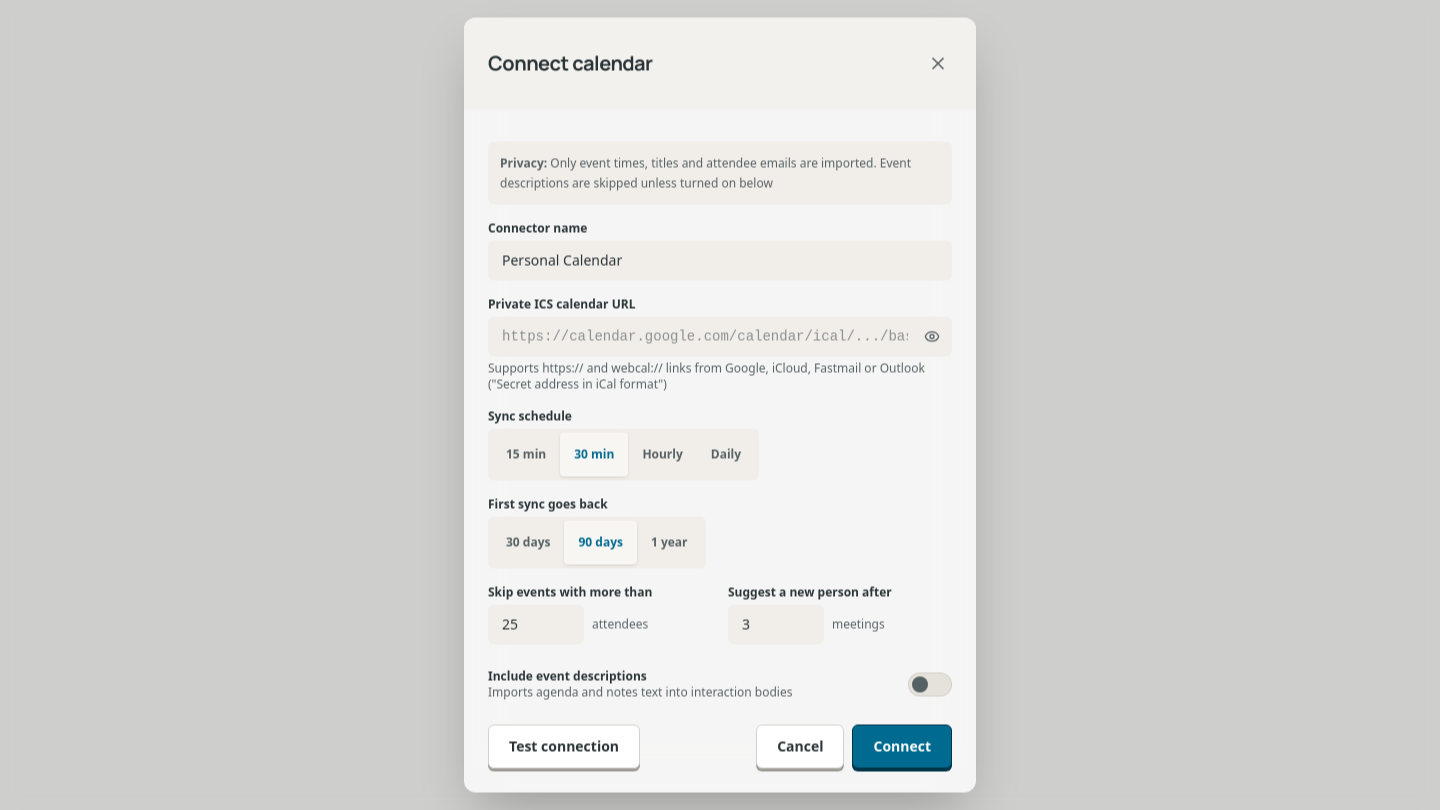
Frontend Connectors Components › CalendarFormModal › displays error message if submitting fails
In the password field labelled "Private ICS calendar URL": (720,336) [488,316,952,356], type "https://calendar.google.com/feed.ics"
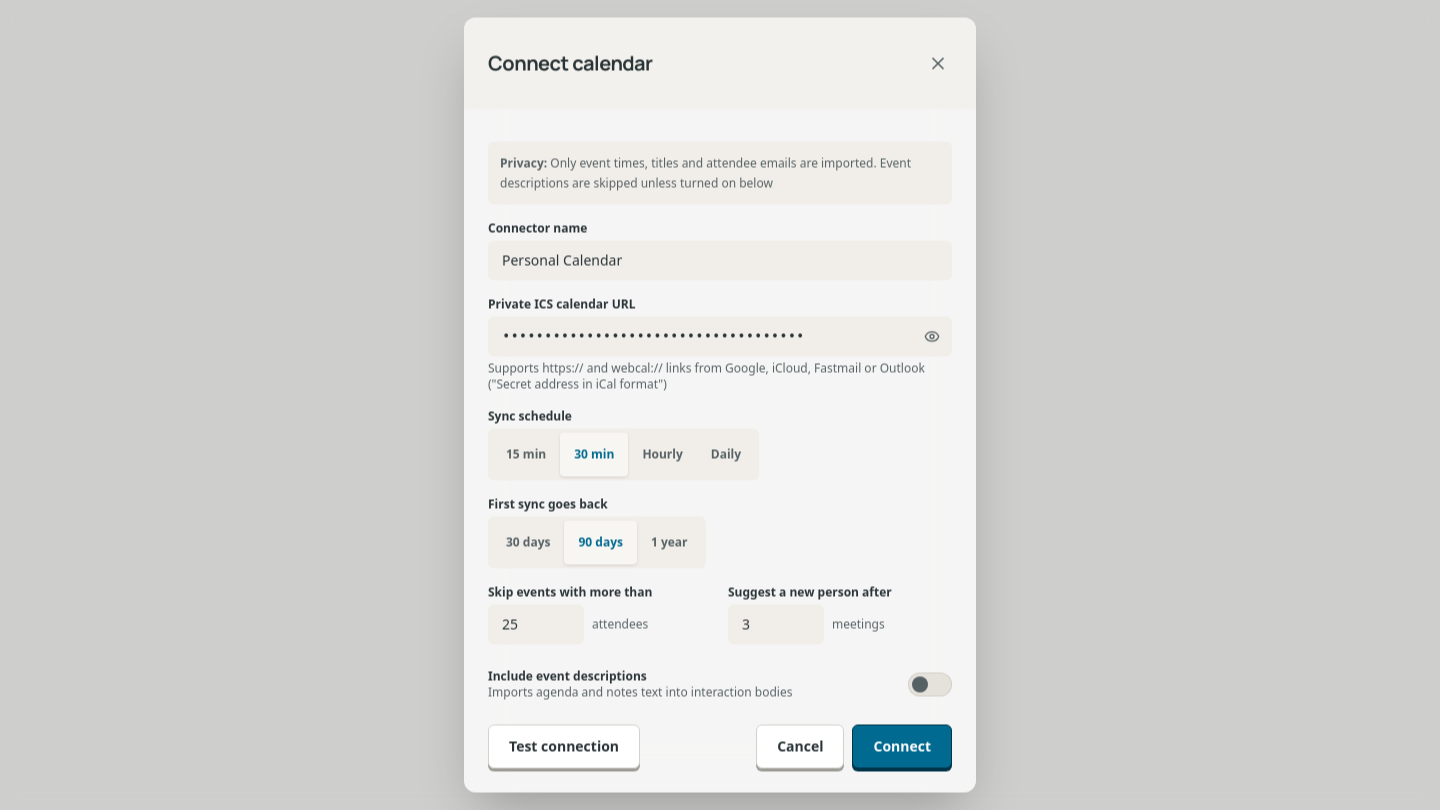
Click the button "Connect": (902,746) [852,724,952,768]
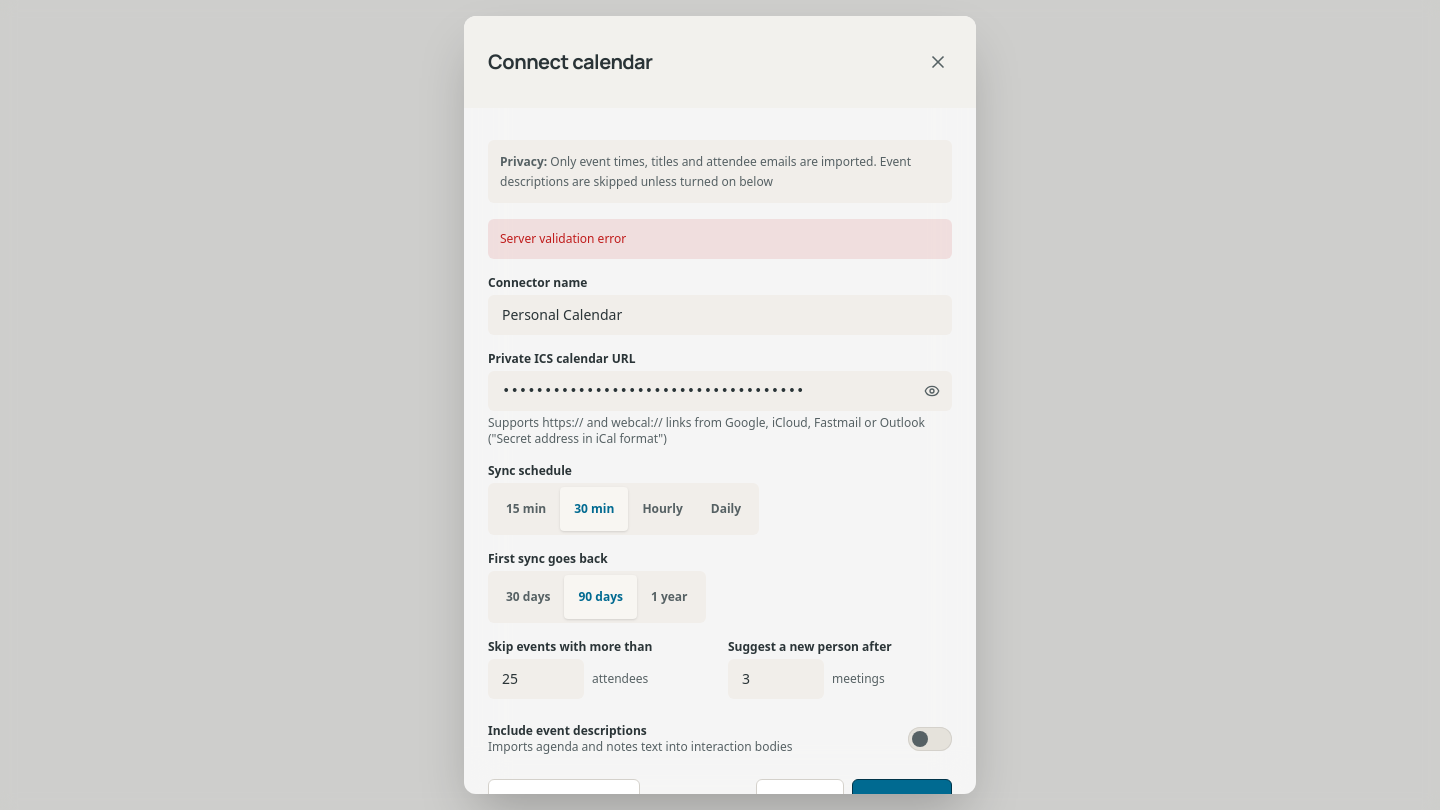
Expected: the message reads "Server validation error", [500,230,626,247]
